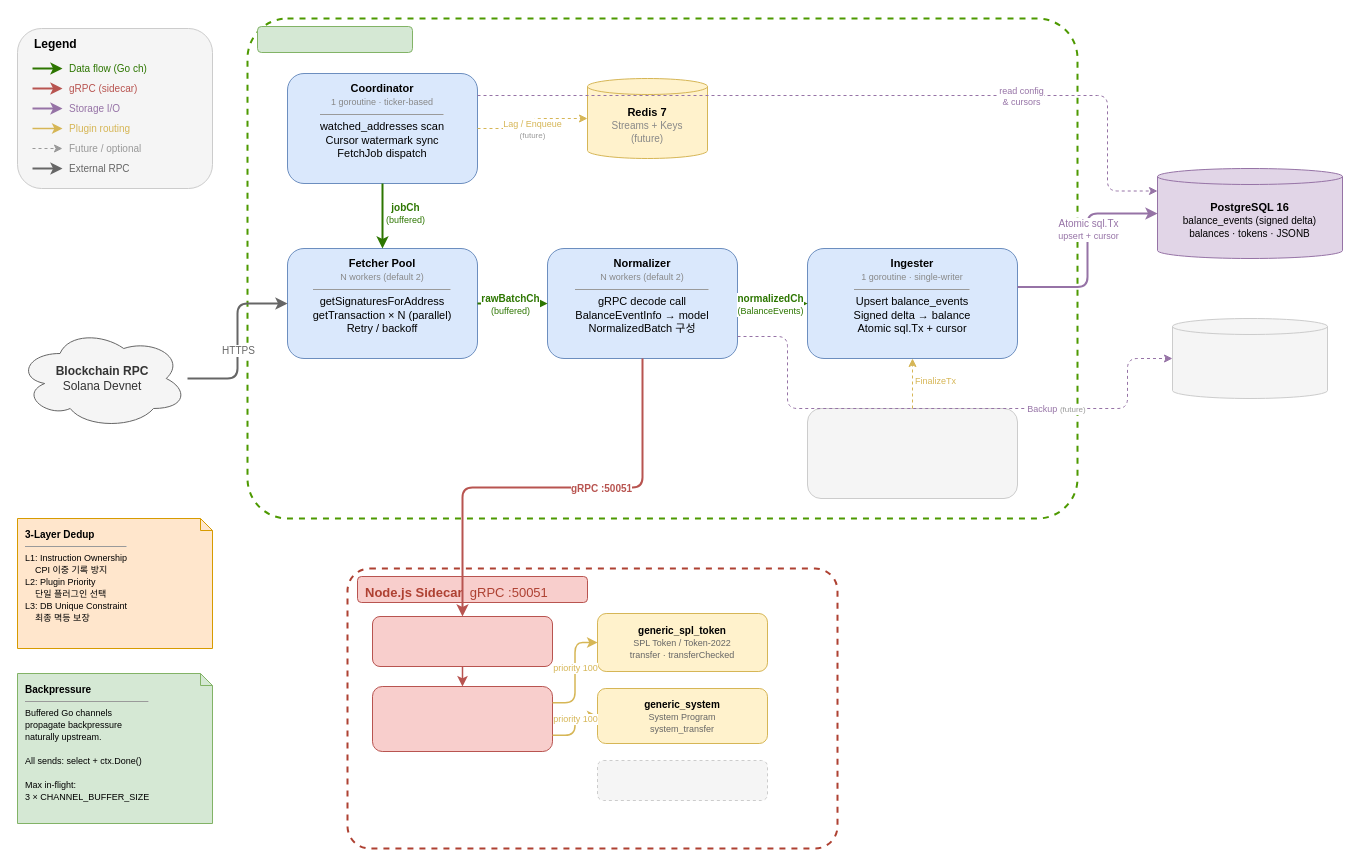
Image size: 1360x866. Some labels were removed from this diagram. The shapes that lost their labels are listed below. From the top down, each one's centre as x and y in pixels, then its label:
(334,39): Go Pipeline Process
(1250,358): Durable Store Normalized Backup (future)
(912,453): Finalizer reorg chain only · future Confirmation 조회 FinalizeTx 발행
(462,641): Transaction Decoder outer instruction ownership 구성
(462,719): PluginDispatcher programId → plugin routing priority-based selection
(682,780): future plugins... Stake / DEX / etc.
